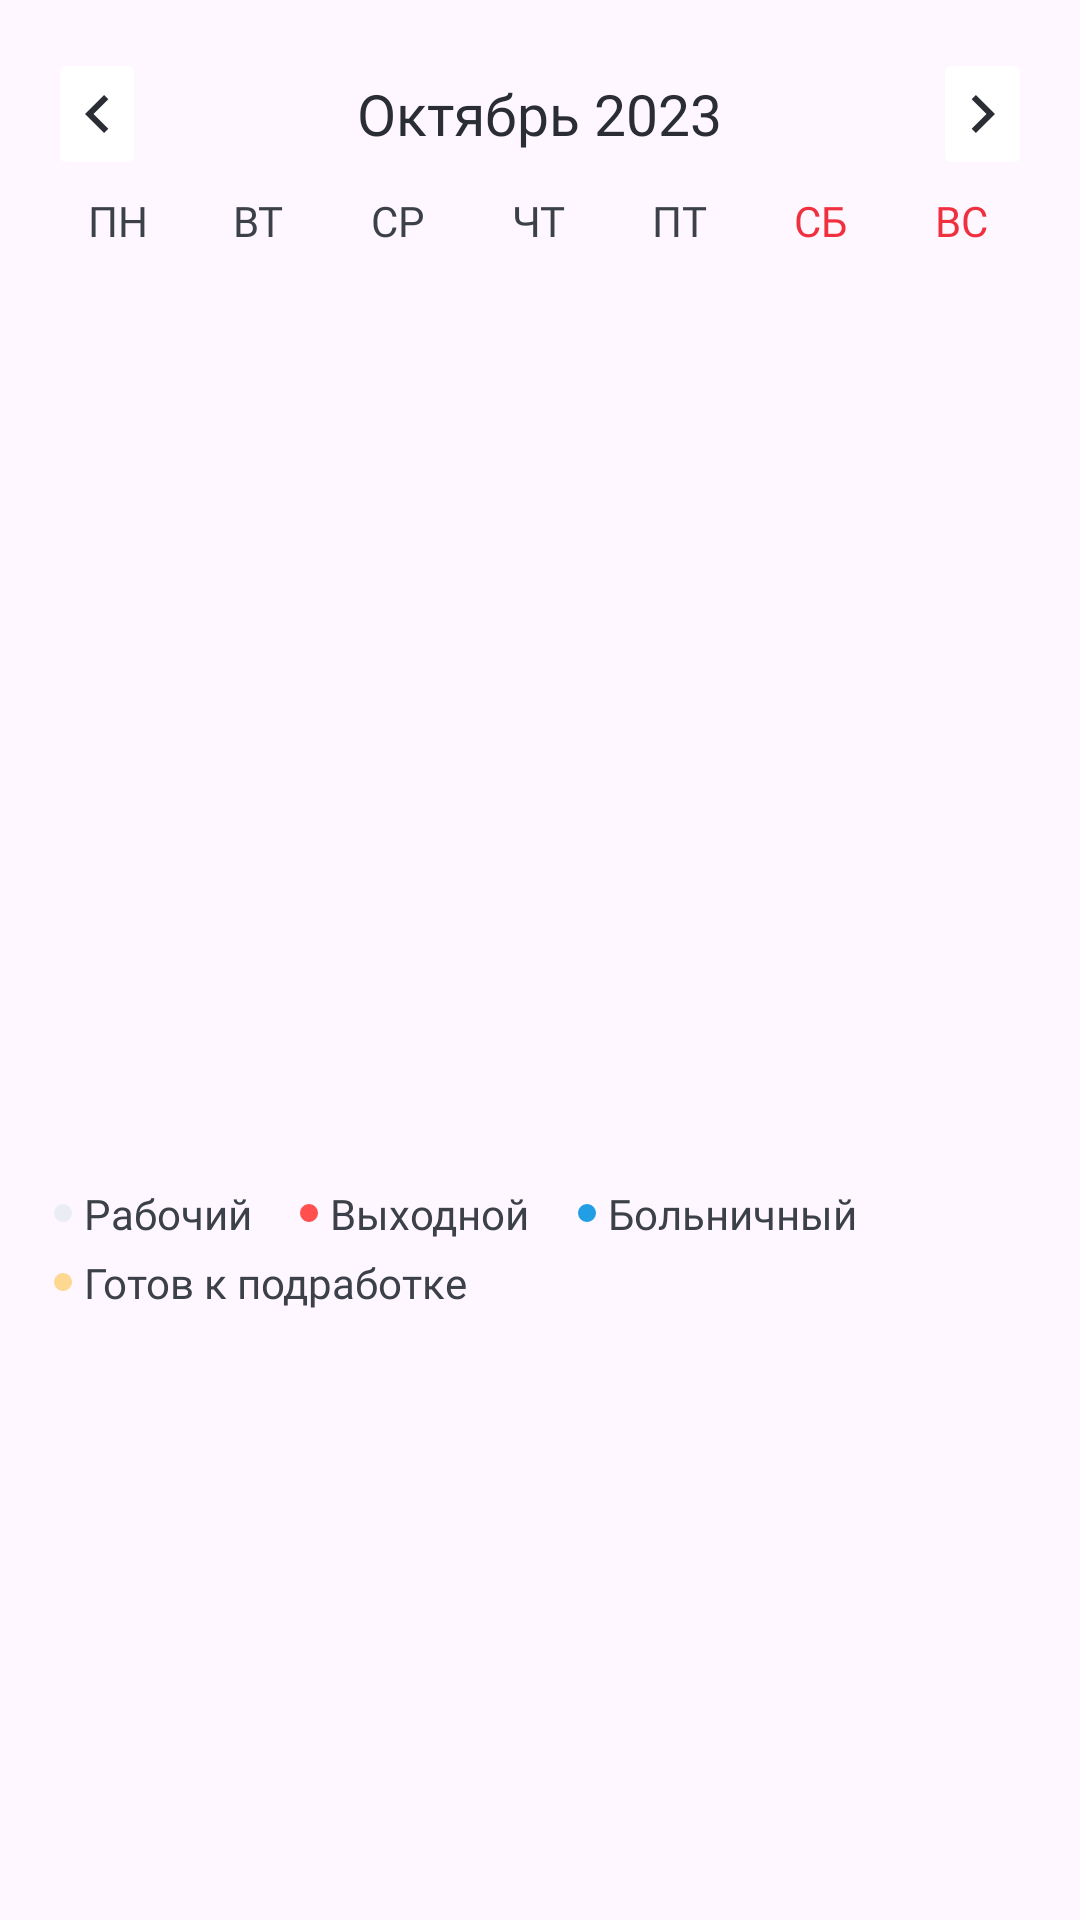

Named icons in this screenshot (1080×1920) and their bounding boxes, (x1, y1, x2, y2):
calendar left: (85, 95, 108, 133)
calendar right: (972, 95, 995, 133)
